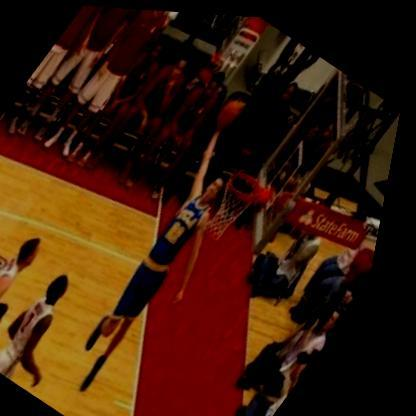basketball: (216, 93, 250, 126)
rim: (193, 155, 285, 249)
